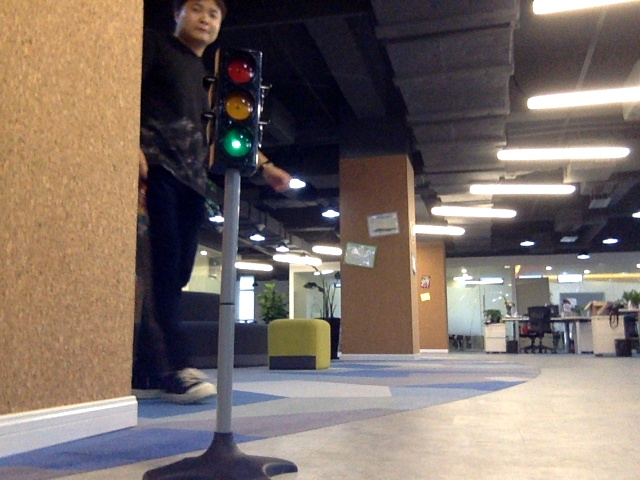green: (218, 52, 254, 157)
